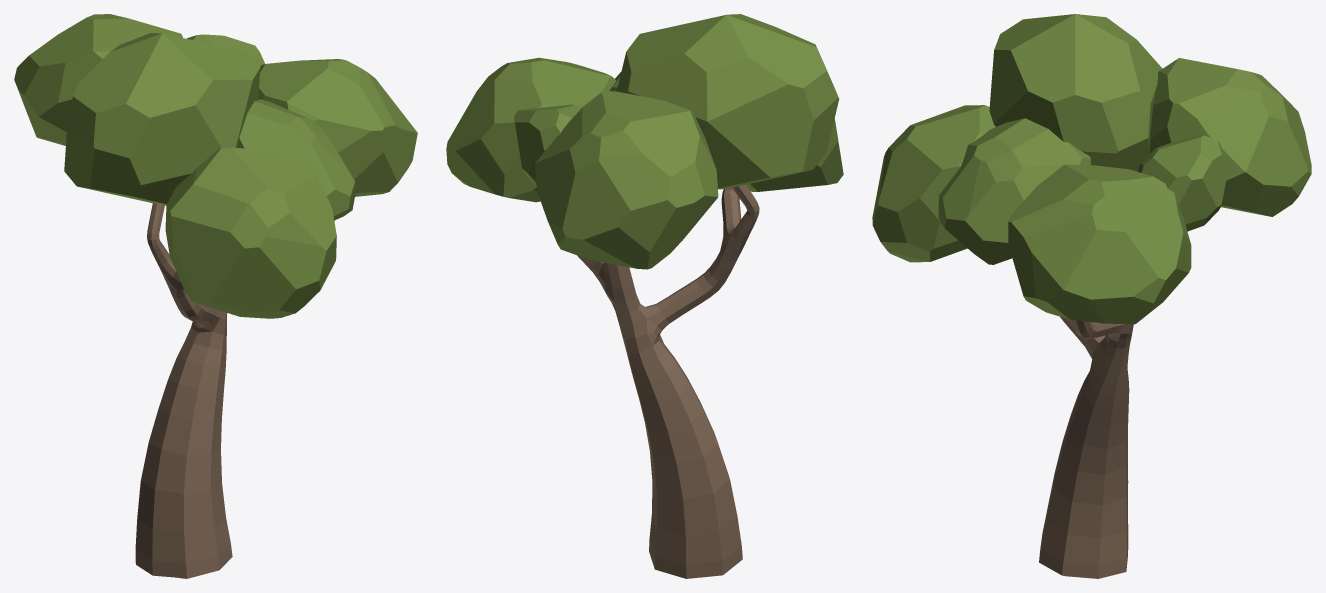
Rendered from Tree_04.fbx.
3 renders of one model, left to right at view 1: azimuth 30°, elevation 25°; view 2: azimuth 150°, elevation 25°; view 3: azimuth 270°, elevation 25°, orthographic.
Visible parts, largest first — view 1: Leaf_02.002, Leaf_02.003, Plane.003, Leaf_02.004, Leaf_02.001, Leaf_02.005, Leaf_02.006; view 2: Leaf_02.002, Leaf_02.001, Plane.003, Leaf_02.004, Leaf_02.006, Leaf_02.003; view 3: Leaf_02.004, Leaf_02.002, Plane.003, Leaf_02.001, Leaf_02.005, Leaf_02.003, Leaf_02.006.
Part boxes in pixels (x1=…): Leaf_02.002: x1=64, y1=33, x2=260, y2=205; Leaf_02.003: x1=165, y1=147, x2=336, y2=318; Plane.003: x1=135, y1=203, x2=334, y2=578; Leaf_02.004: x1=258, y1=59, x2=417, y2=196; Leaf_02.001: x1=14, y1=14, x2=182, y2=145; Leaf_02.005: x1=237, y1=99, x2=356, y2=220; Leaf_02.006: x1=187, y1=34, x2=264, y2=66; Leaf_02.002: x1=616, y1=14, x2=839, y2=189; Leaf_02.001: x1=535, y1=91, x2=718, y2=269; Plane.003: x1=577, y1=184, x2=759, y2=578; Leaf_02.004: x1=446, y1=57, x2=616, y2=202; Leaf_02.006: x1=514, y1=104, x2=581, y2=186; Leaf_02.003: x1=746, y1=119, x2=843, y2=191; Leaf_02.004: x1=1008, y1=164, x2=1191, y2=324; Leaf_02.002: x1=989, y1=14, x2=1162, y2=171; Plane.003: x1=1039, y1=316, x2=1133, y2=578; Leaf_02.001: x1=1149, y1=58, x2=1311, y2=216; Leaf_02.005: x1=938, y1=118, x2=1090, y2=264; Leaf_02.003: x1=872, y1=105, x2=995, y2=262; Leaf_02.006: x1=1137, y1=135, x2=1229, y2=231.
Size of the model in its own units: 248 by 378 by 278.
